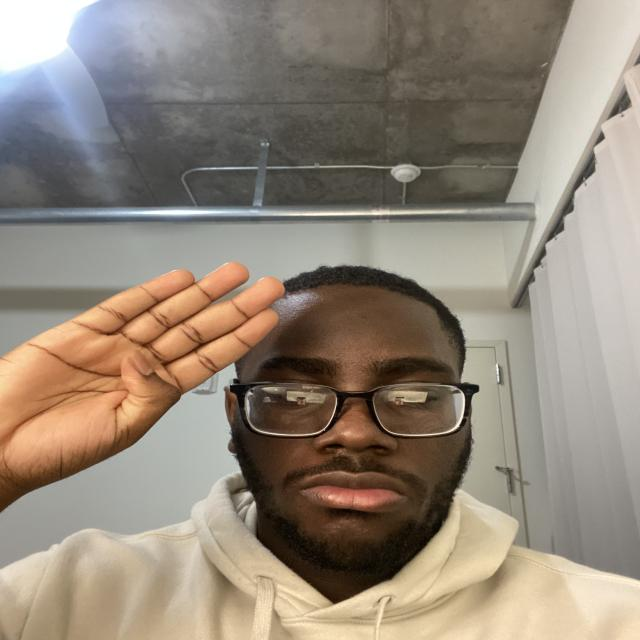Hello: (8, 233, 318, 492)
